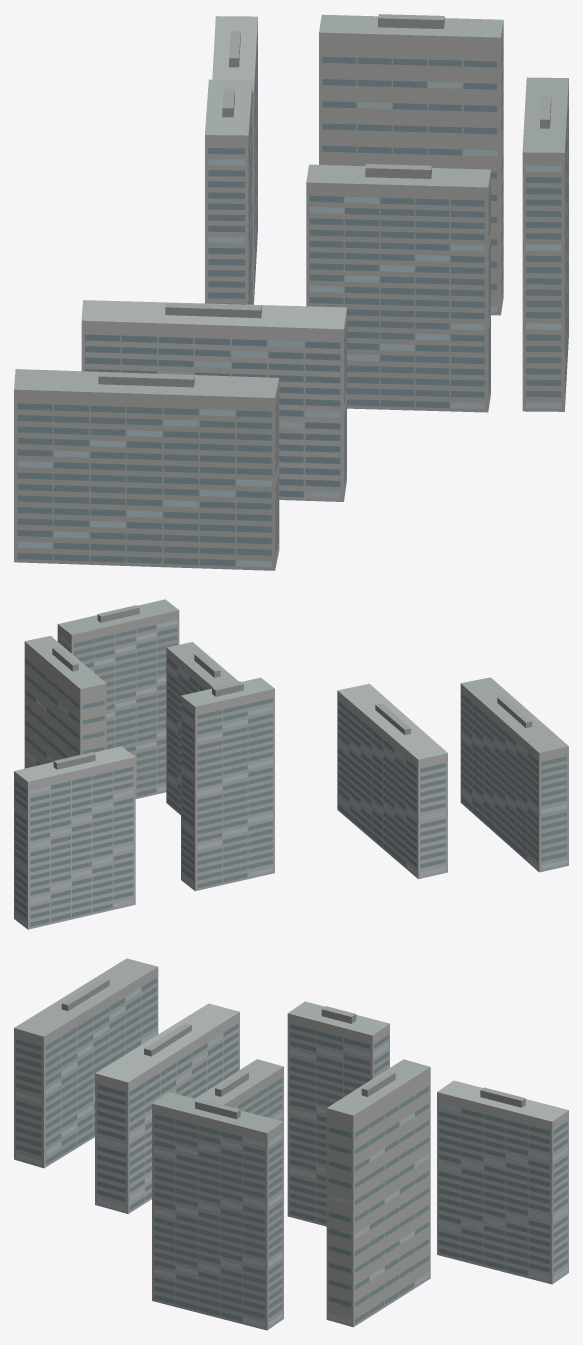
Rendered from apt-a10022928.glb.
3 views of the same model, one above another, from view 1: azimuth 30°, elevation 25°; view 2: azimuth 150°, elevation 25°; view 3: azimuth 270°, elevation 25° (orthographic). The views are drawn at different scales.
Parts seen in each view (by area): view 1: apt-a10022928; view 2: apt-a10022928; view 3: apt-a10022928.
Boxes of the visible parts, x1,y1,x2,y2 form: apt-a10022928: (14, 14, 568, 570); apt-a10022928: (14, 599, 568, 929); apt-a10022928: (14, 958, 568, 1330).
Size of the model in its own units: 179 by 76 by 175.
